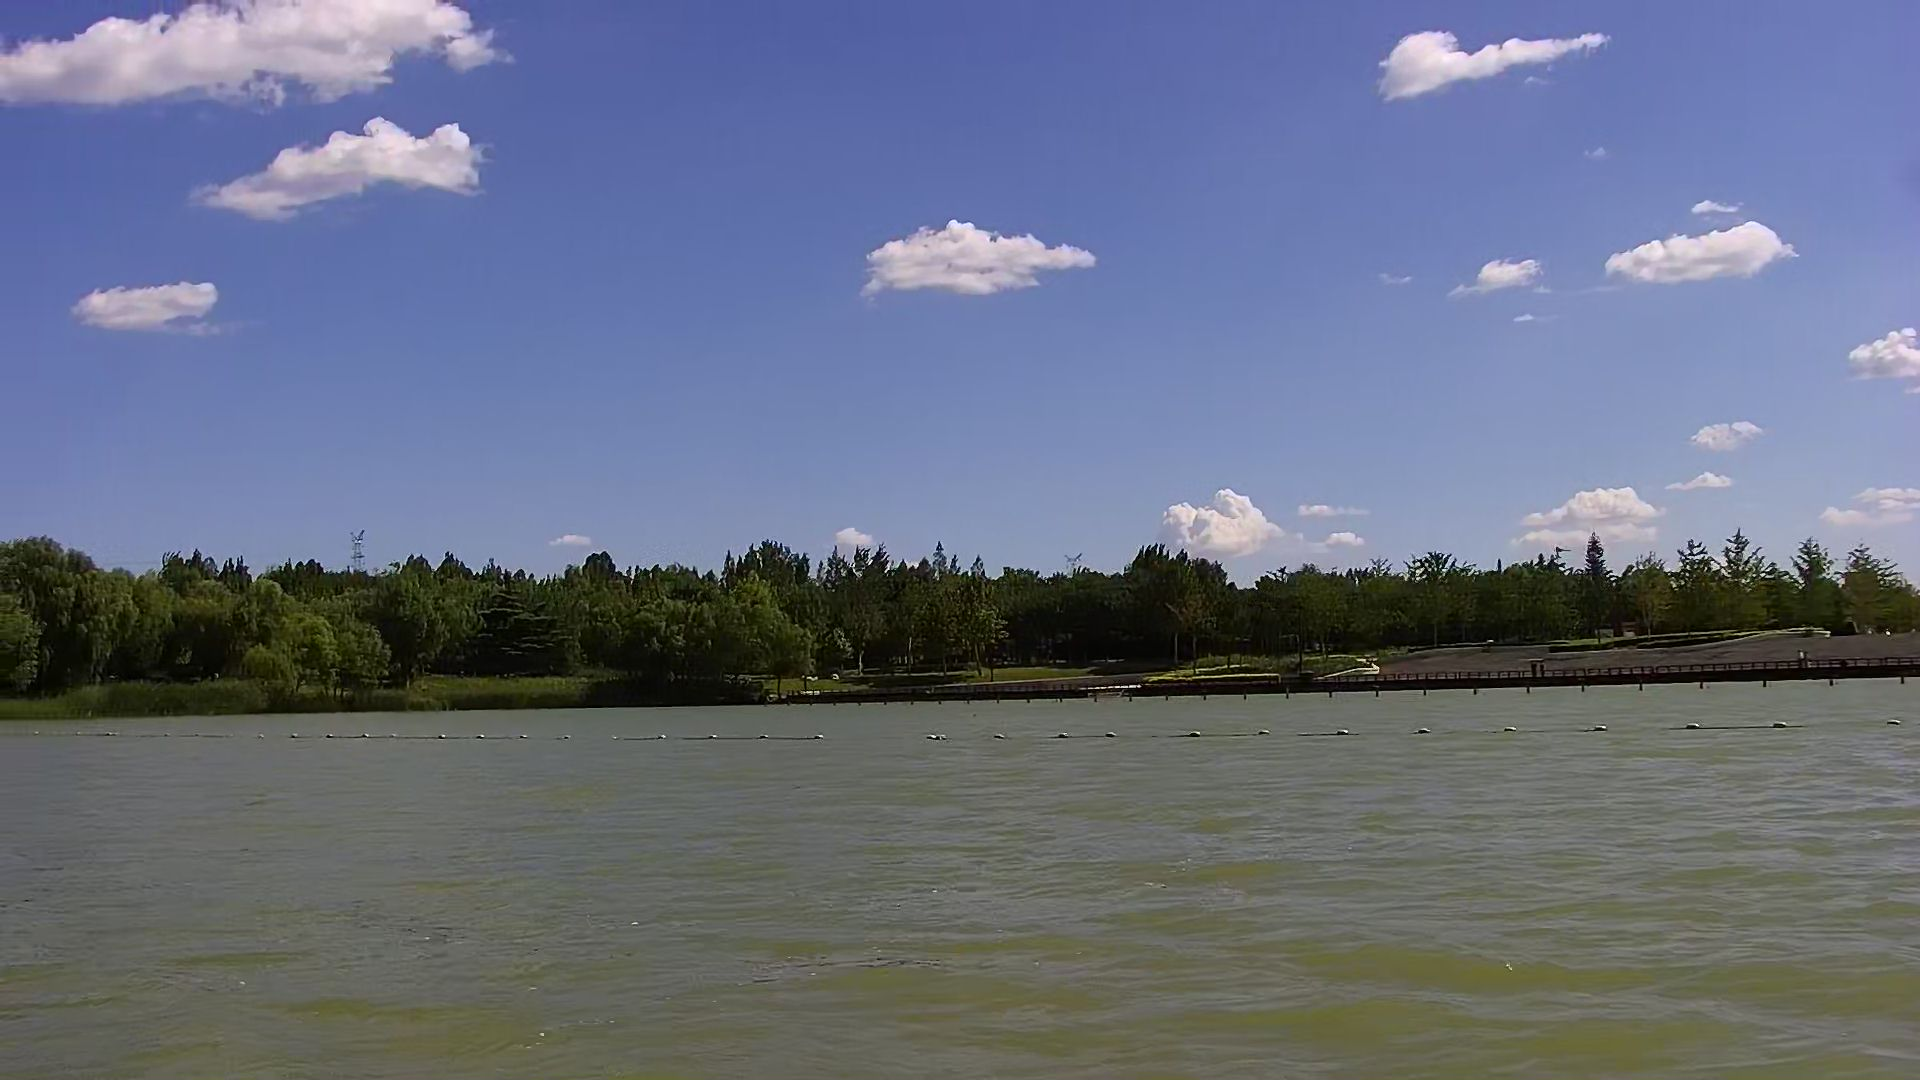ball: (1327, 723, 1364, 745), (1681, 715, 1706, 736), (1585, 717, 1611, 736), (1772, 716, 1791, 735)
harbor: (1350, 632, 1920, 692)
